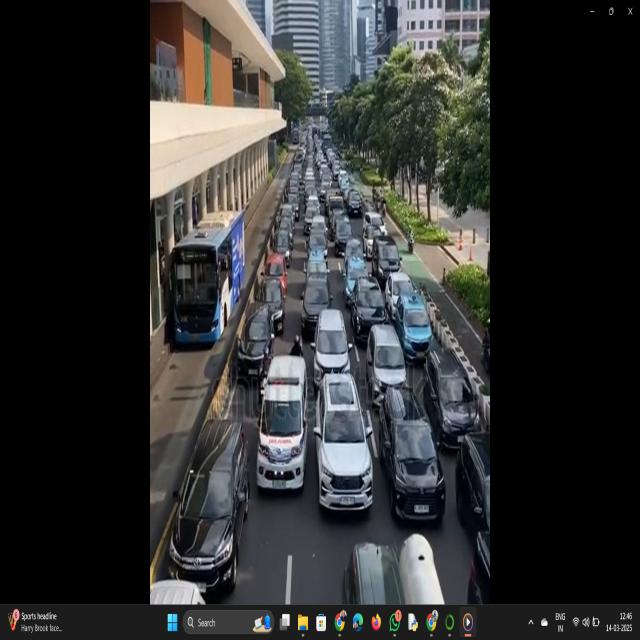Ambulance: (249, 341, 307, 494)
